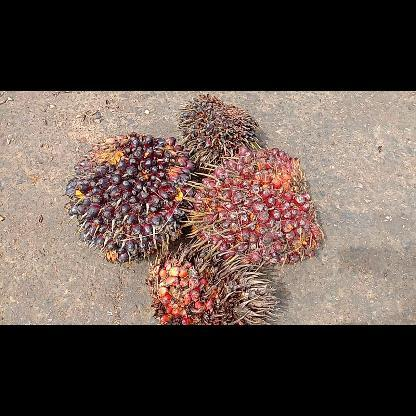Kurang masak: (62, 130, 200, 266)
TBS abnormal: (176, 95, 260, 167)
TBS masak: (181, 144, 325, 268)
Terlalu masak: (146, 240, 288, 324)
